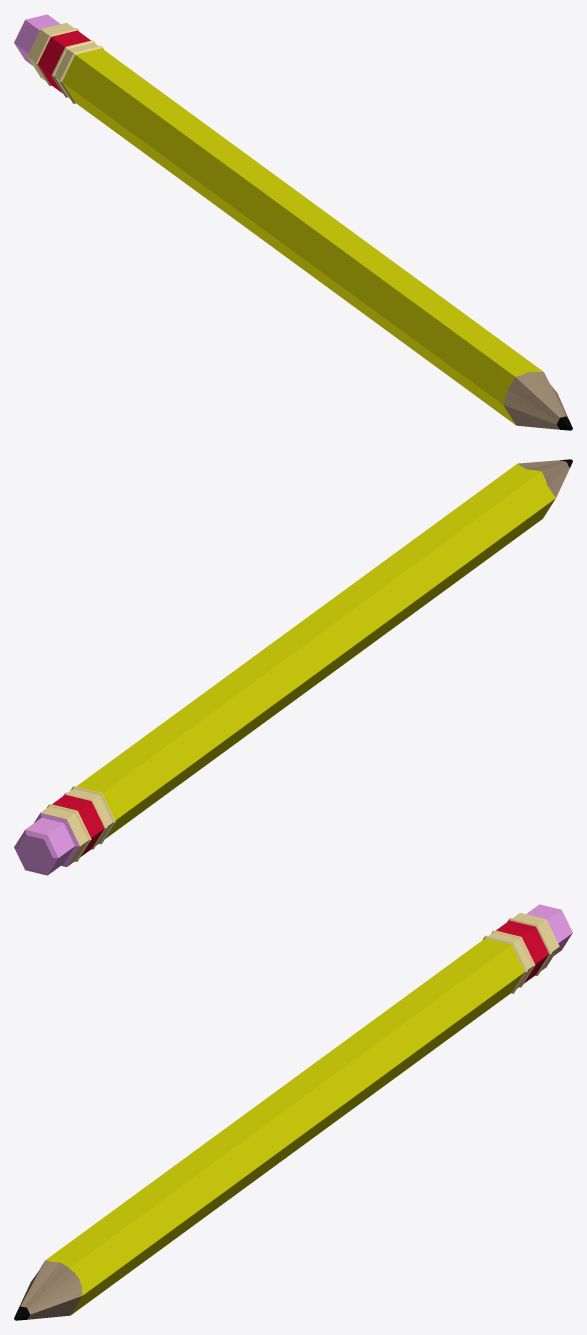
File: lapiz.fbx
3 views of the same model, one above another, from view 1: azimuth 30°, elevation 25°; view 2: azimuth 150°, elevation 25°; view 3: azimuth 330°, elevation 25° (orthographic).
Parts seen in each view (by area): view 1: Circle; view 2: Circle; view 3: Circle.
Boxes of the visible parts, x1,y1,x2,y2 form: Circle: (14, 14, 572, 430); Circle: (14, 459, 572, 875); Circle: (14, 904, 572, 1320).
Size of the model in its own units: 0.3368 by 0.2917 by 5.54.
